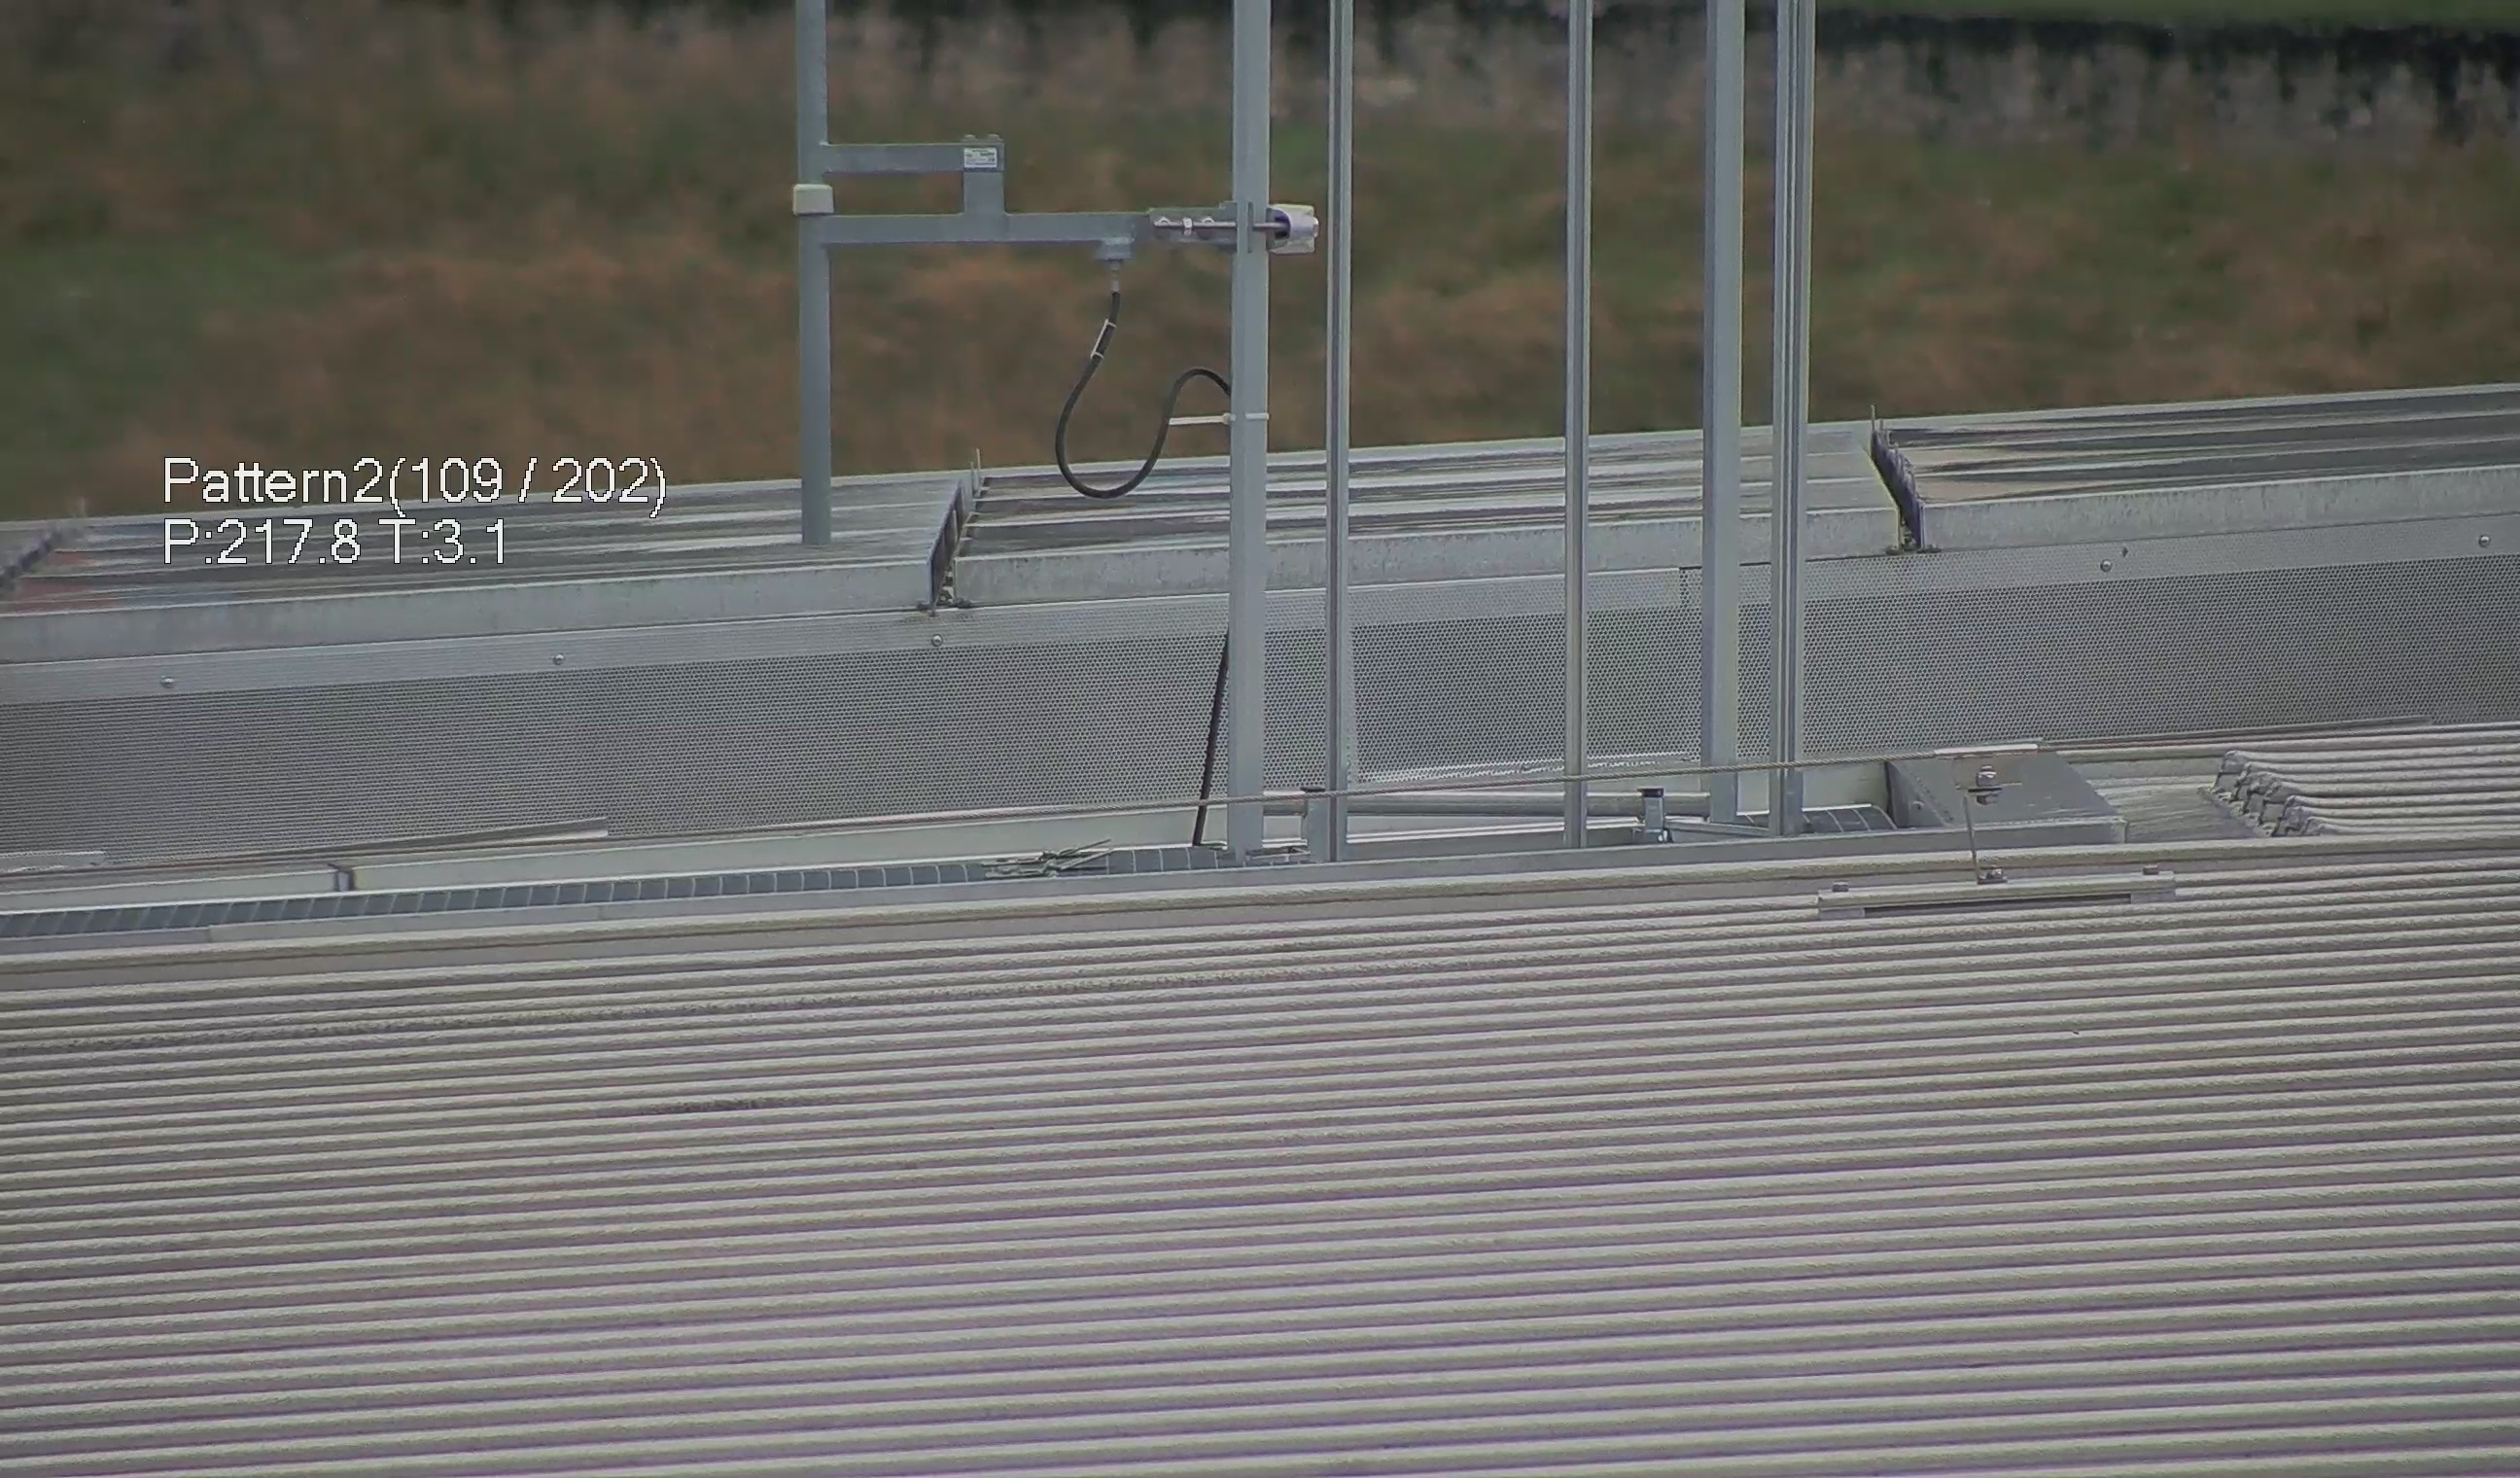Other: (1866, 410, 1952, 552)
